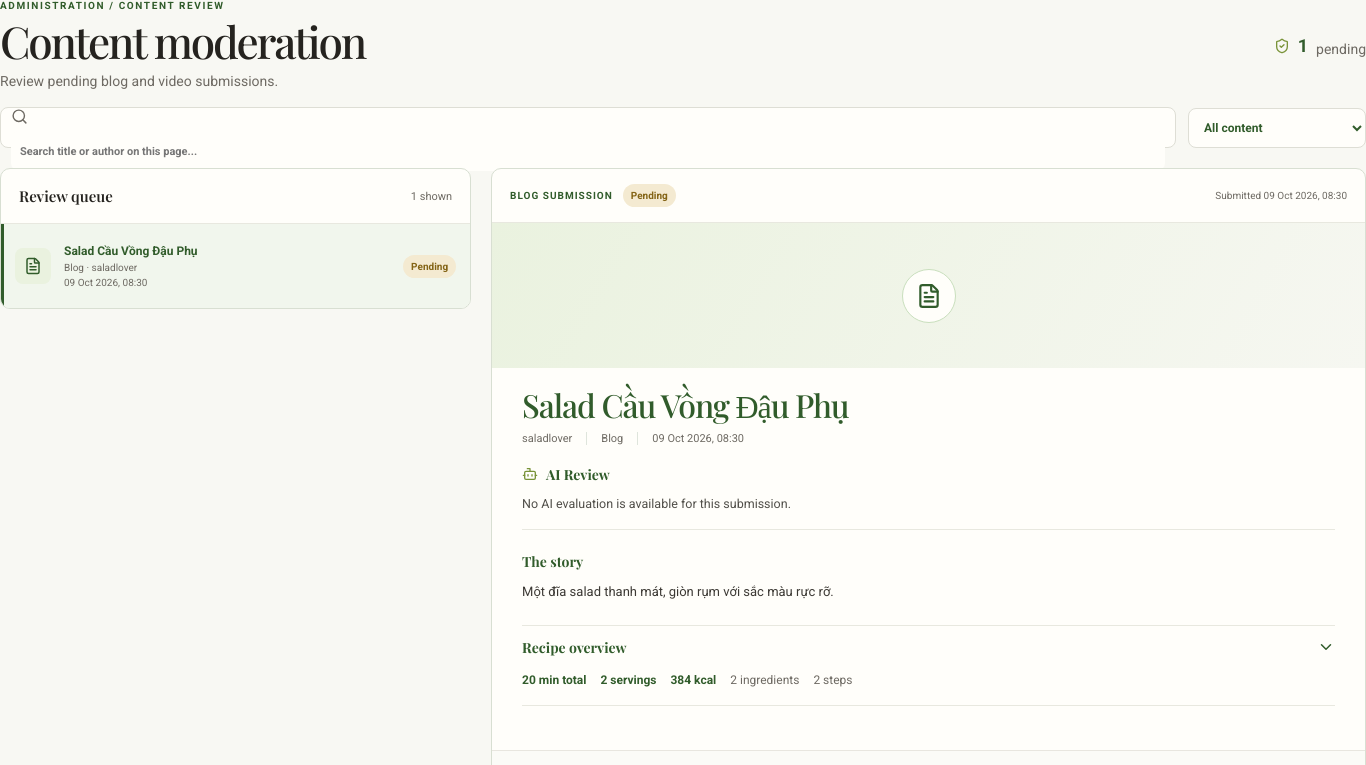
Test: admin moderation screen › renders structured recipe view instead of raw JSON for recipe submissions
Expected: the text "Một đĩa salad thanh mát, giòn rụm với sắc màu rực rỡ." is shown, x1=522 y1=584 x2=834 y2=599
Expected: the heading "Recipe overview" is shown, x1=522 y1=638 x2=626 y2=657
Click the button with aria-label "Expand recipe overview" at (574,647), box x1=522 y1=638 x2=1335 y2=657
(page scrolled)
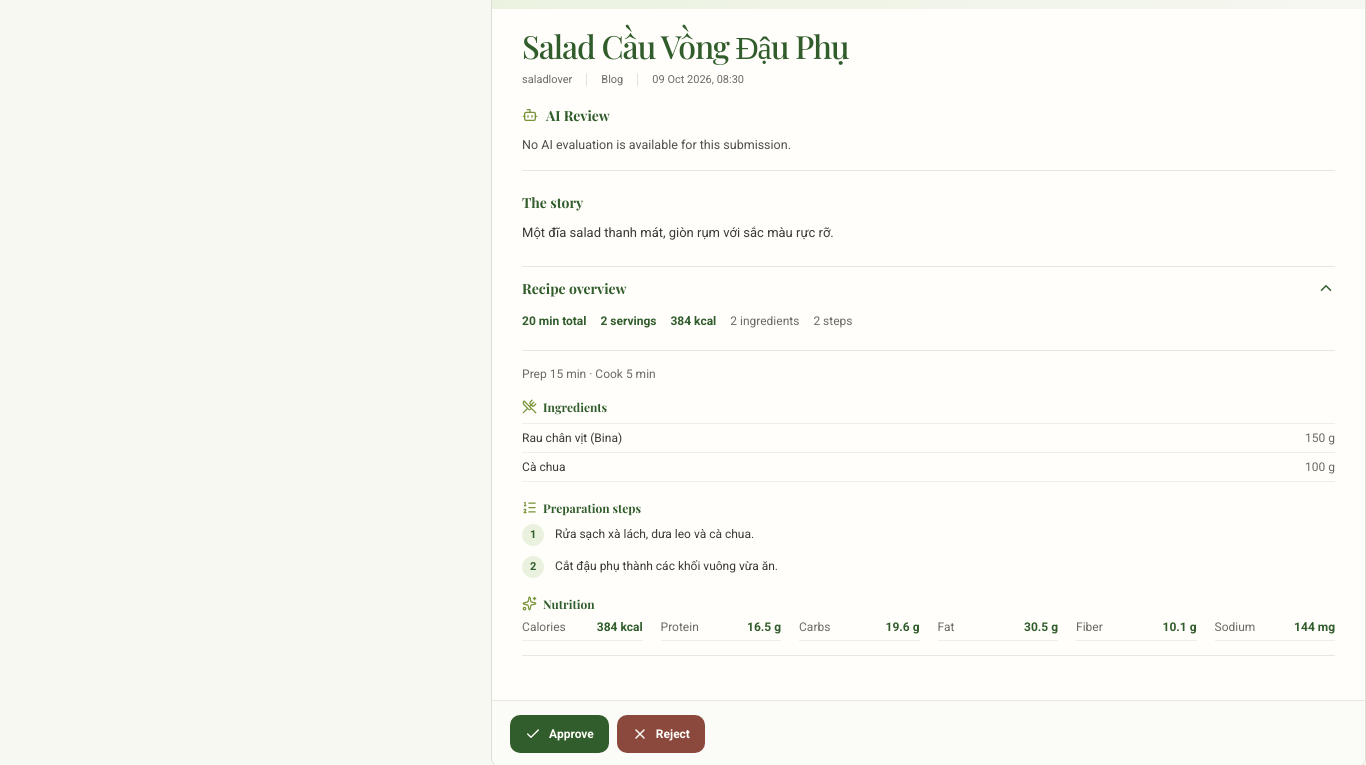
Expected: the text "Prep 15 min · Cook 5 min" is shown, x1=522 y1=367 x2=656 y2=381
Expected: the heading "Preparation steps" is shown, x1=522 y1=500 x2=641 y2=516
Expected: the heading "Nutrition" is shown, x1=522 y1=596 x2=595 y2=612
